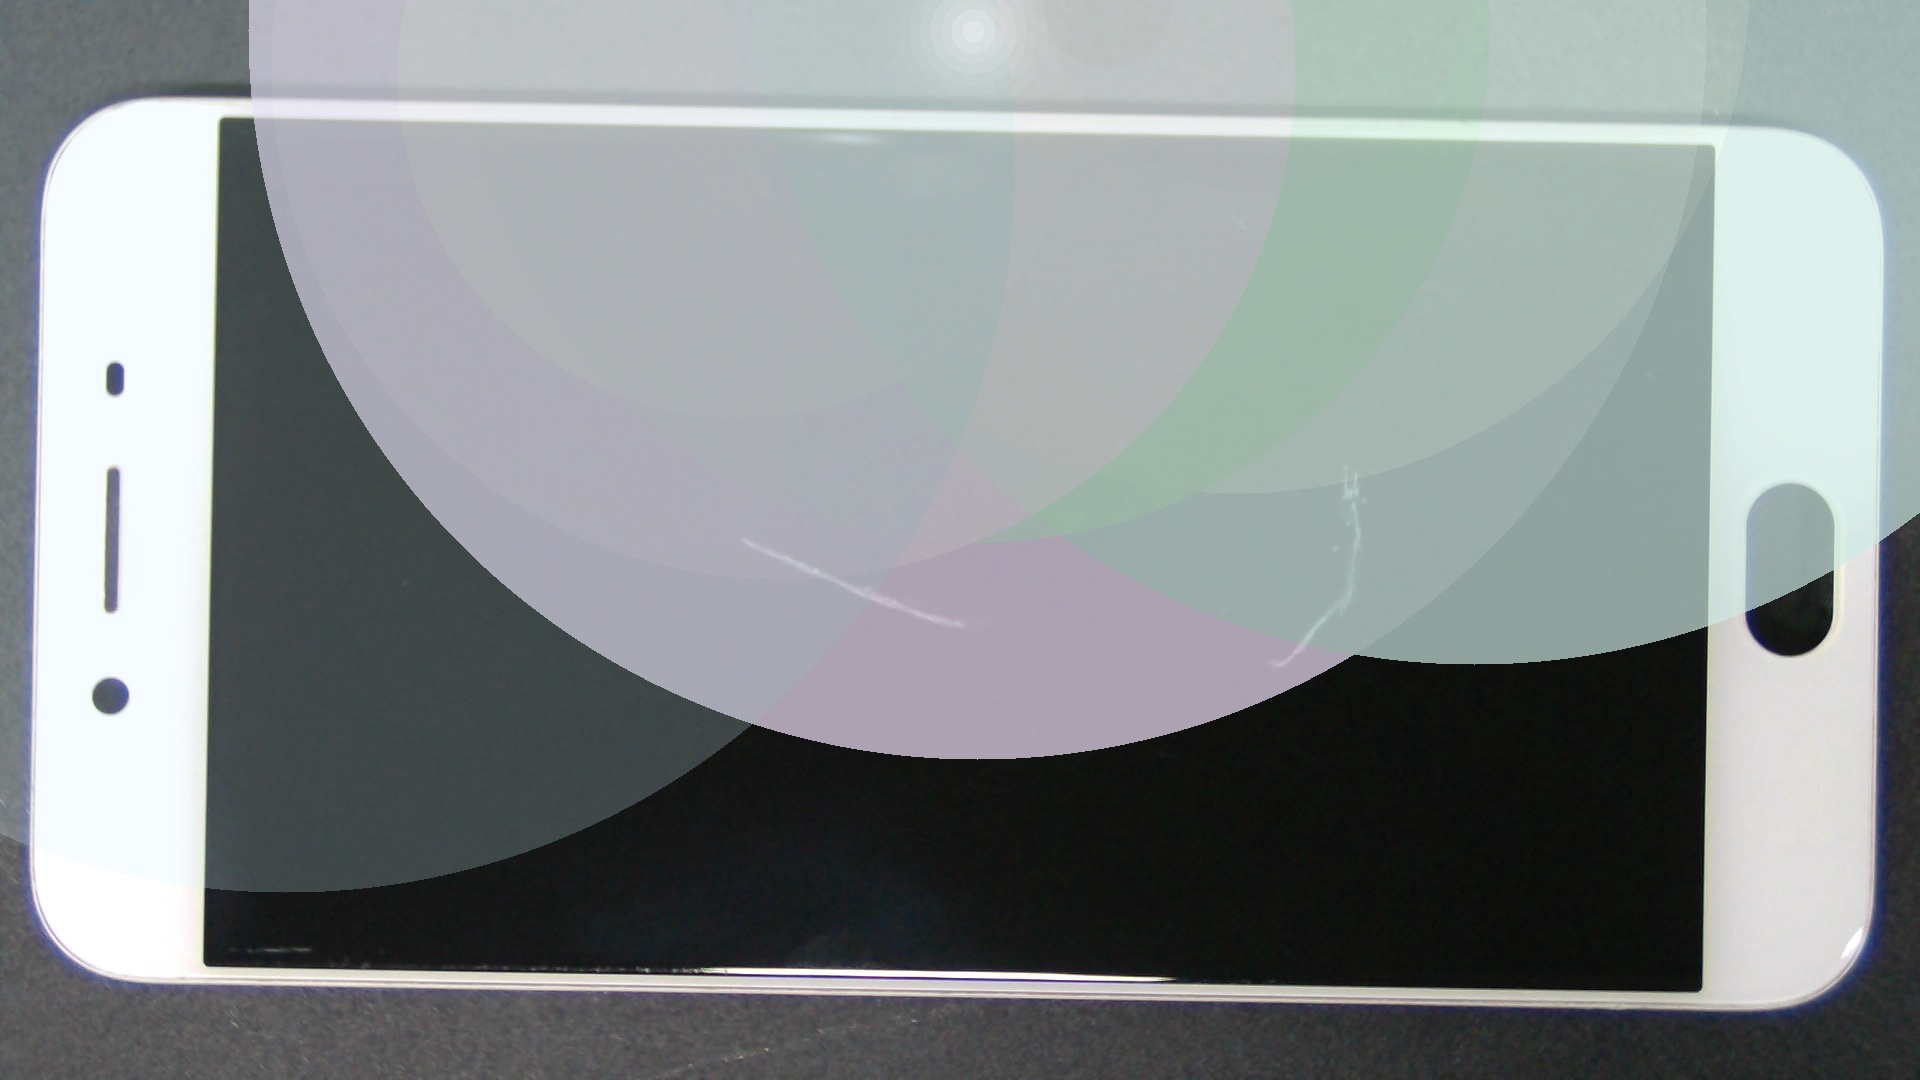oil: (673, 229, 1920, 698), (372, 266, 1113, 804)
